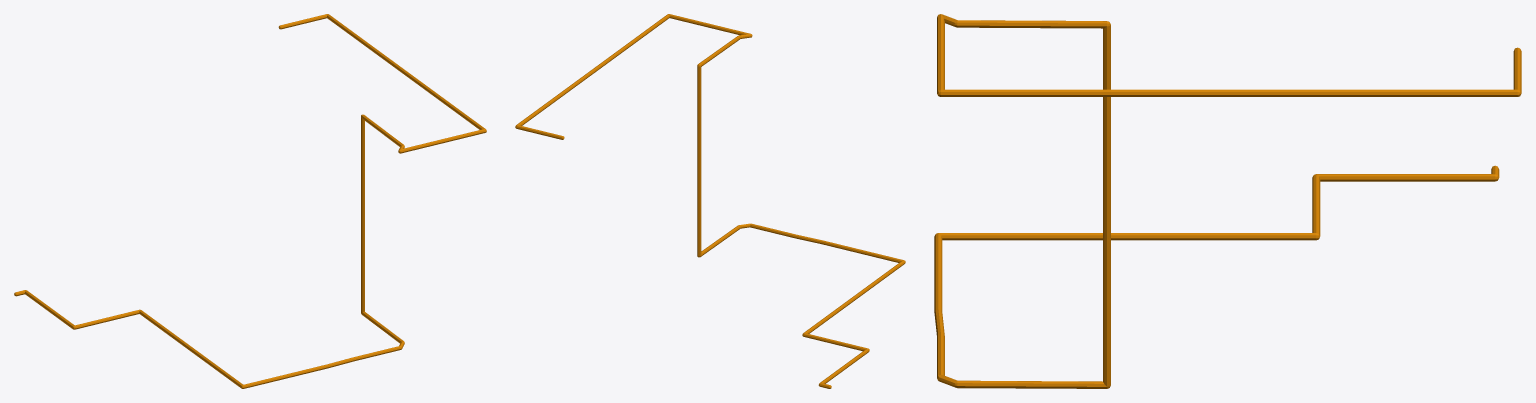
The picture shows the model from 3 angles, left to right: view 1: azimuth 30°, elevation 25°; view 2: azimuth 150°, elevation 25°; view 3: azimuth 270°, elevation 25°; orthographic projection. The views are drawn at different scales.
Size of the model in its own units: 1712 by 1020 by 1476.
